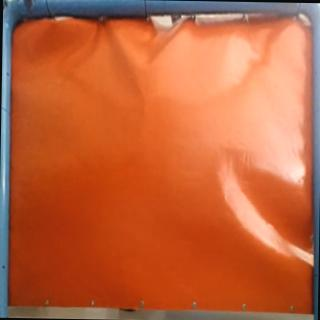Hit-hRxx: (132, 98, 152, 111)
